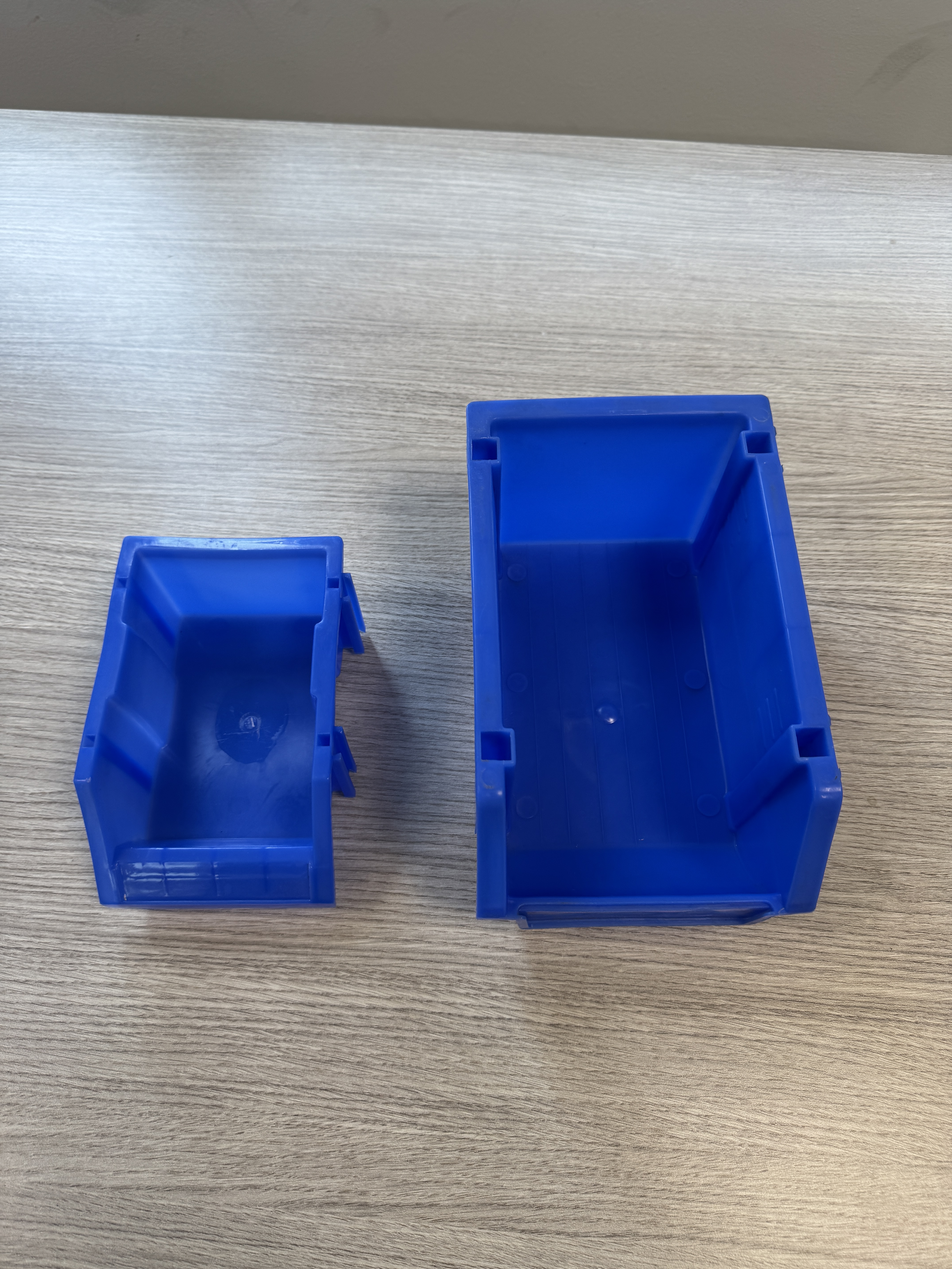Bin Boundary: (491, 411, 821, 909), (86, 543, 326, 873)
